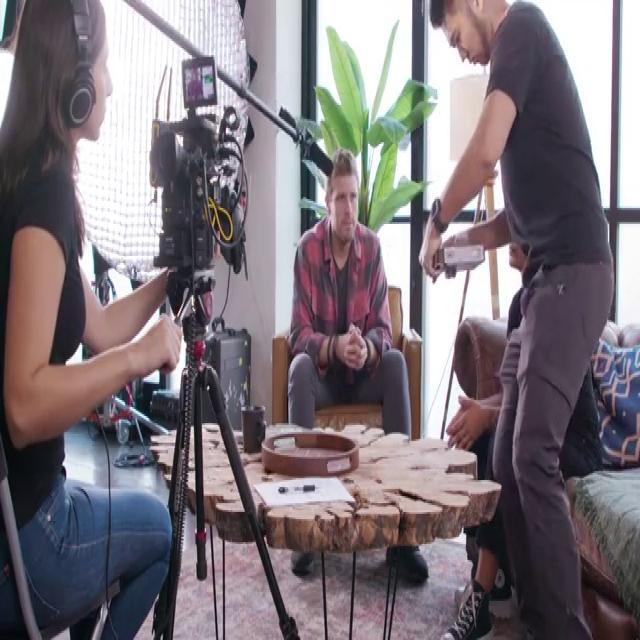Clapperboard: (425, 240, 490, 278)
